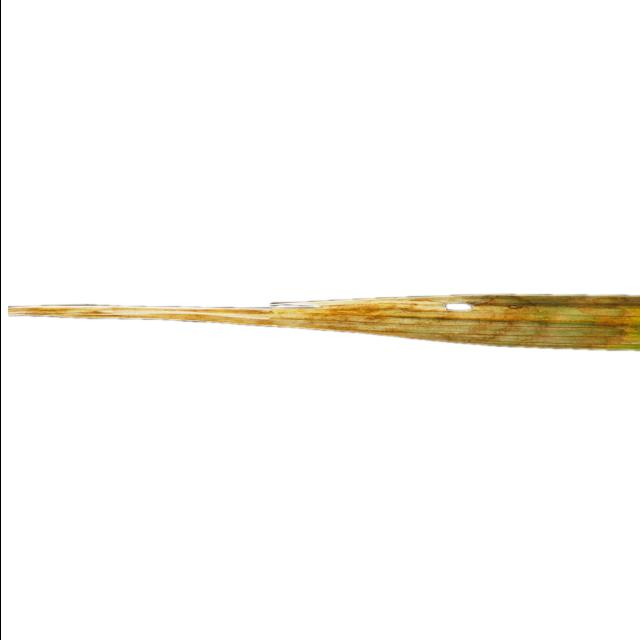Leaf scald: (0, 200, 640, 437)
